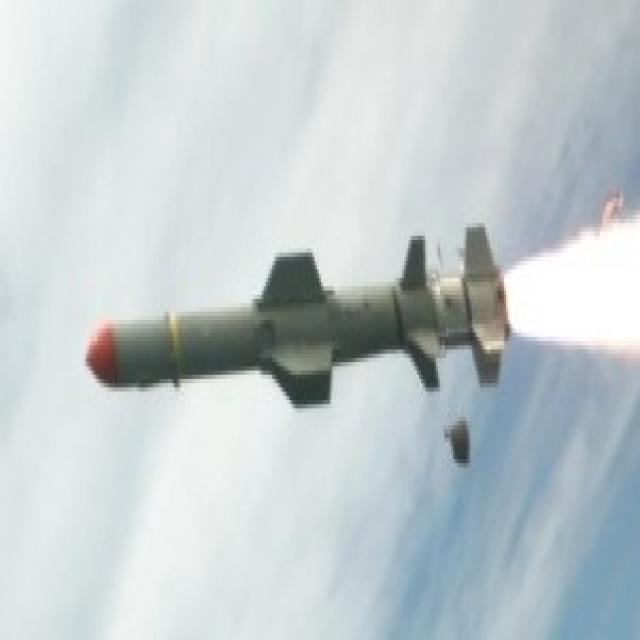missile: (85, 265, 519, 396)
